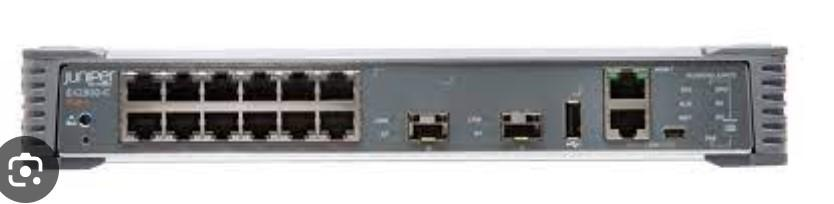NetworkSwitch: (20, 46, 789, 169)
